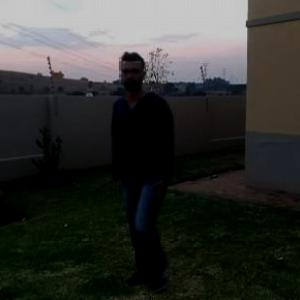follow: (110, 46, 202, 295)
